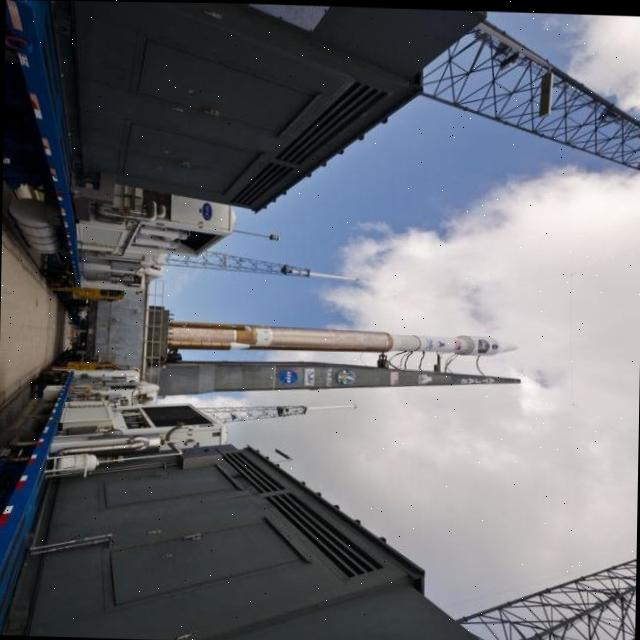missile: (121, 308, 528, 364)
